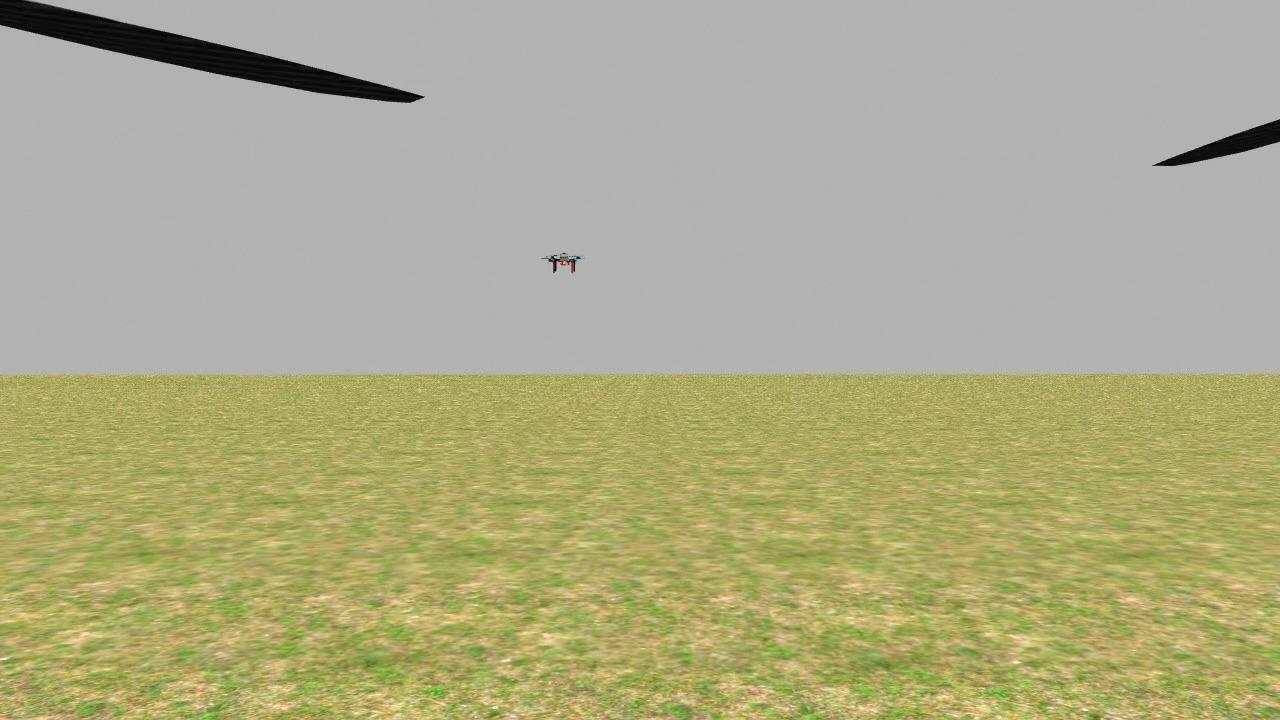UAV: (547, 243, 590, 281)
